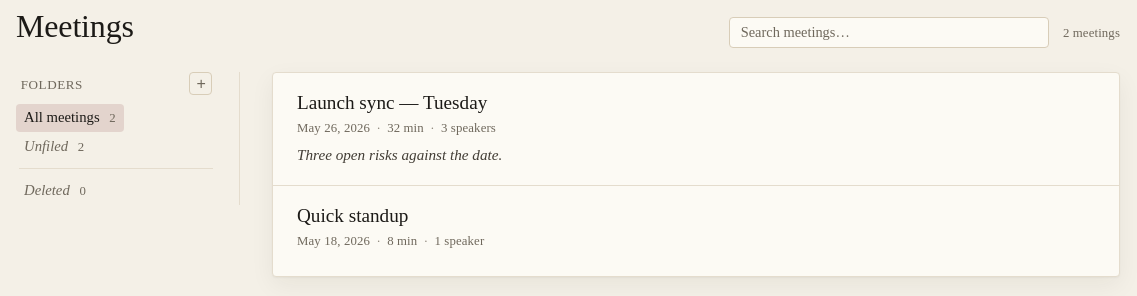
MeetingList row context menu (#0034 meeting-list slice) › right-click on a row opens the themed menu and suppresses the native menu
Expected: the button "Launch sync — Tuesday" is shown, [297, 92, 487, 114]
Right-click the list item "Launch sync — Tuesday" at (696, 130), box [273, 73, 1119, 186]
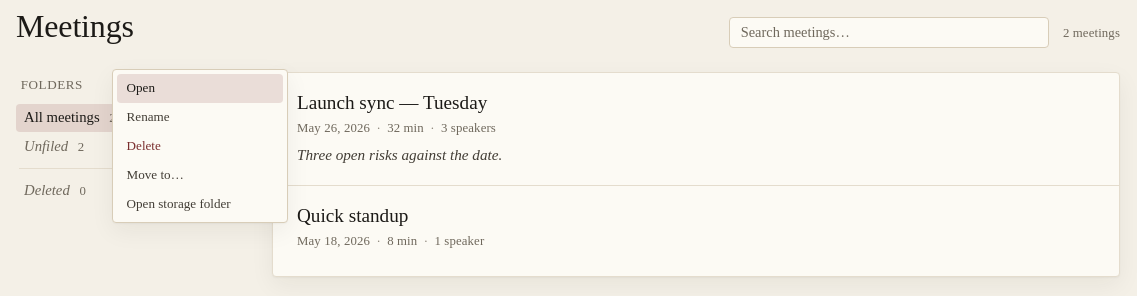
Now the menu is shown, box [112, 69, 288, 223]
Now the menu item "Open storage folder" is shown, box [117, 189, 283, 218]
Now the menu item "Open" is shown, box [117, 74, 283, 103]
